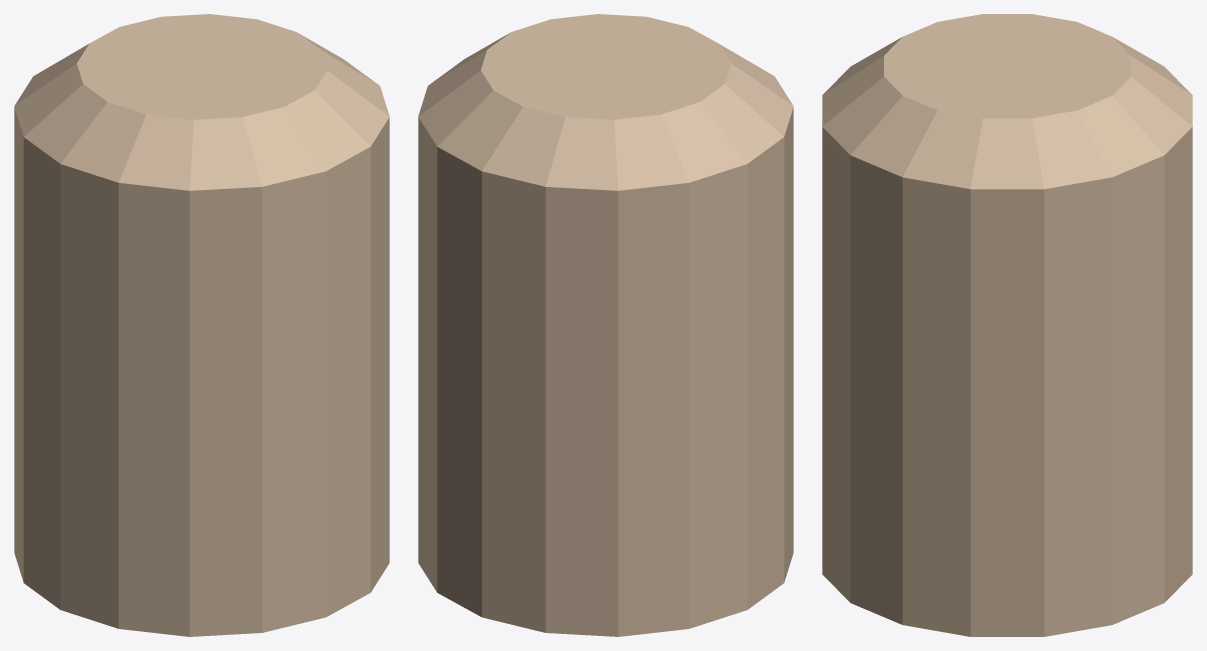
The model's file is hamal_cargo_module_s1_2_collider.obj.
3 renders of one model, left to right at view 1: azimuth 30°, elevation 25°; view 2: azimuth 150°, elevation 25°; view 3: azimuth 270°, elevation 25°, orthographic.
Visible parts, largest first — view 1: collider; view 2: collider; view 3: collider.
Part boxes in pixels (x1,y1,x2,y2): collider: [14, 14, 389, 636]; collider: [418, 14, 793, 636]; collider: [822, 14, 1192, 636].
Size of the model in its own units: 1.88 by 2.75 by 1.88.
